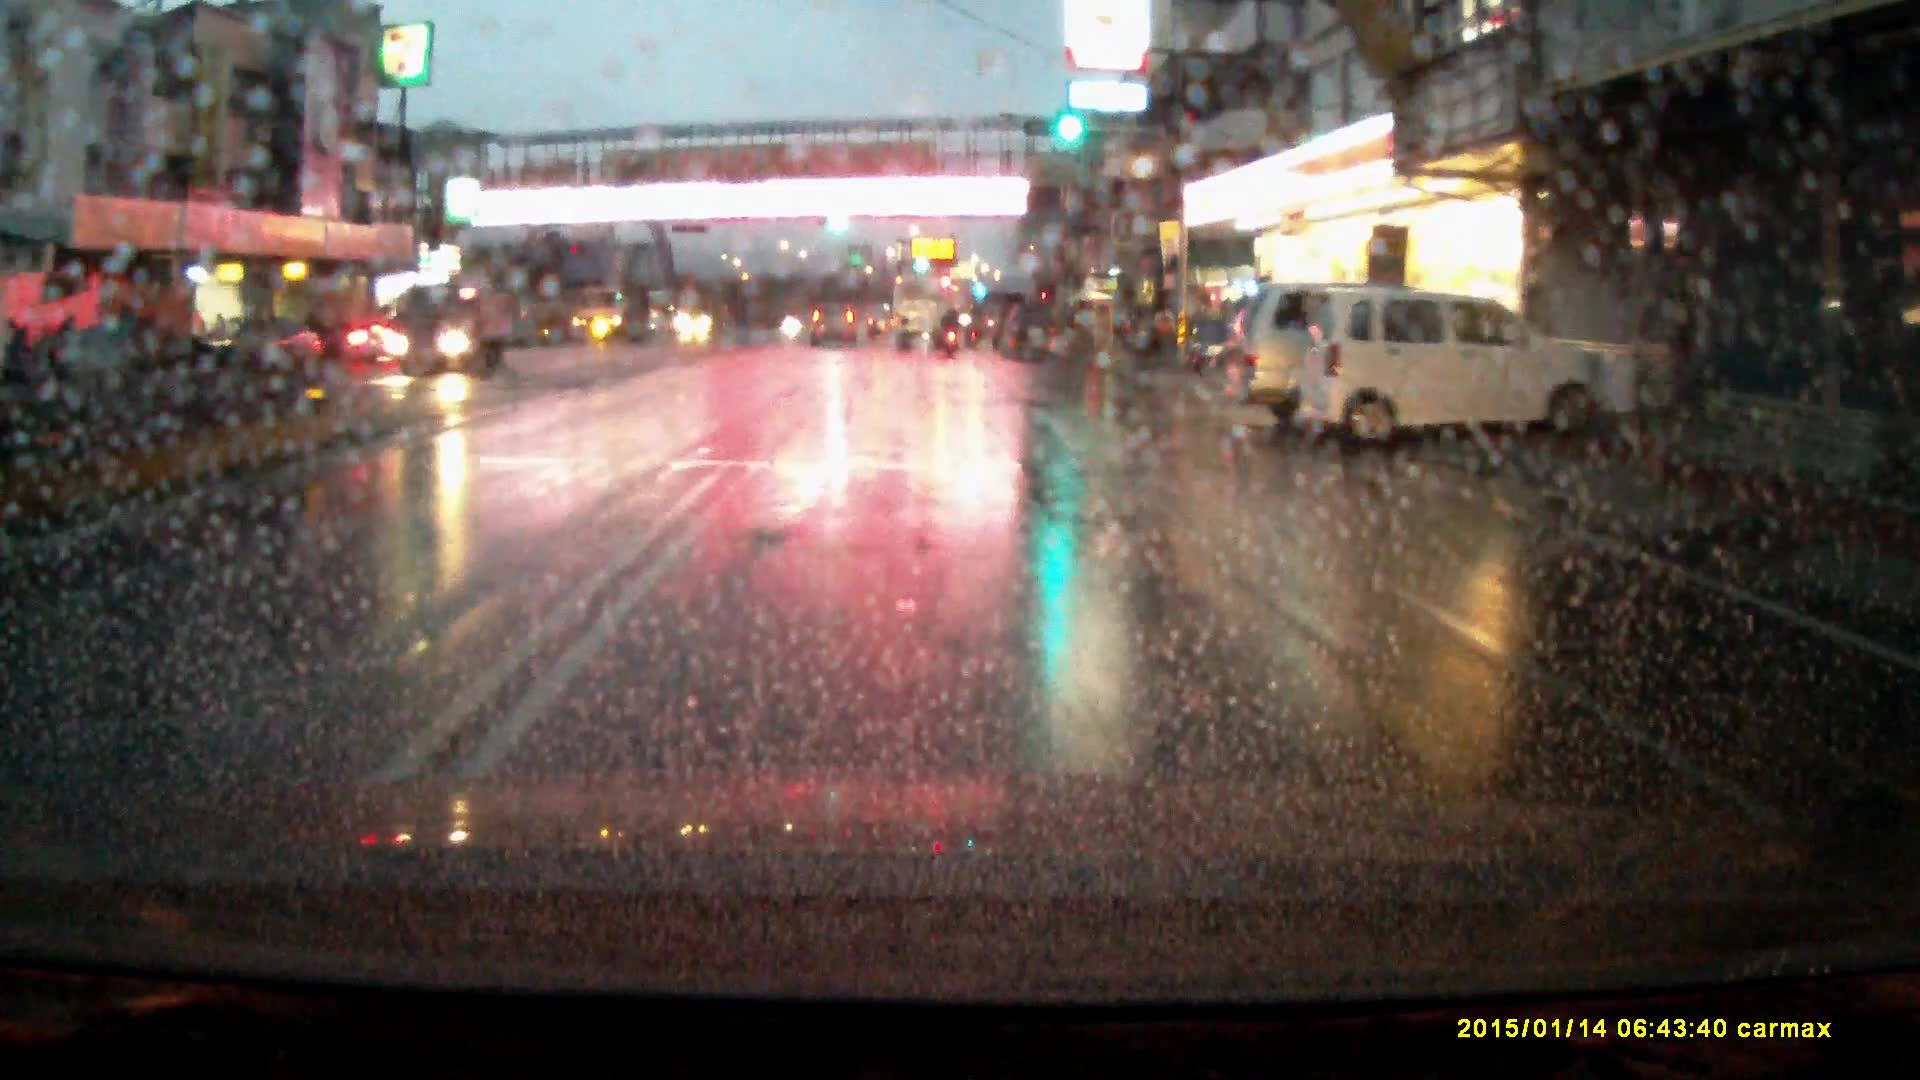rider: (941, 305, 962, 354)
vehicle: (1296, 293, 1624, 455), (1223, 279, 1413, 432), (384, 294, 500, 385), (185, 317, 324, 381), (894, 277, 953, 352), (567, 291, 643, 345), (998, 305, 1060, 366), (1116, 304, 1179, 364), (671, 298, 735, 347), (810, 303, 861, 353), (345, 322, 398, 368)
